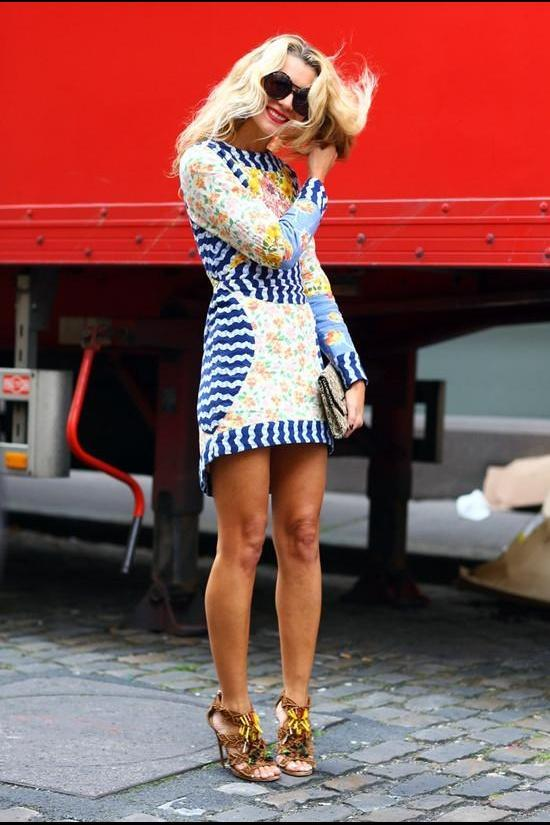dress: (178, 138, 370, 494)
